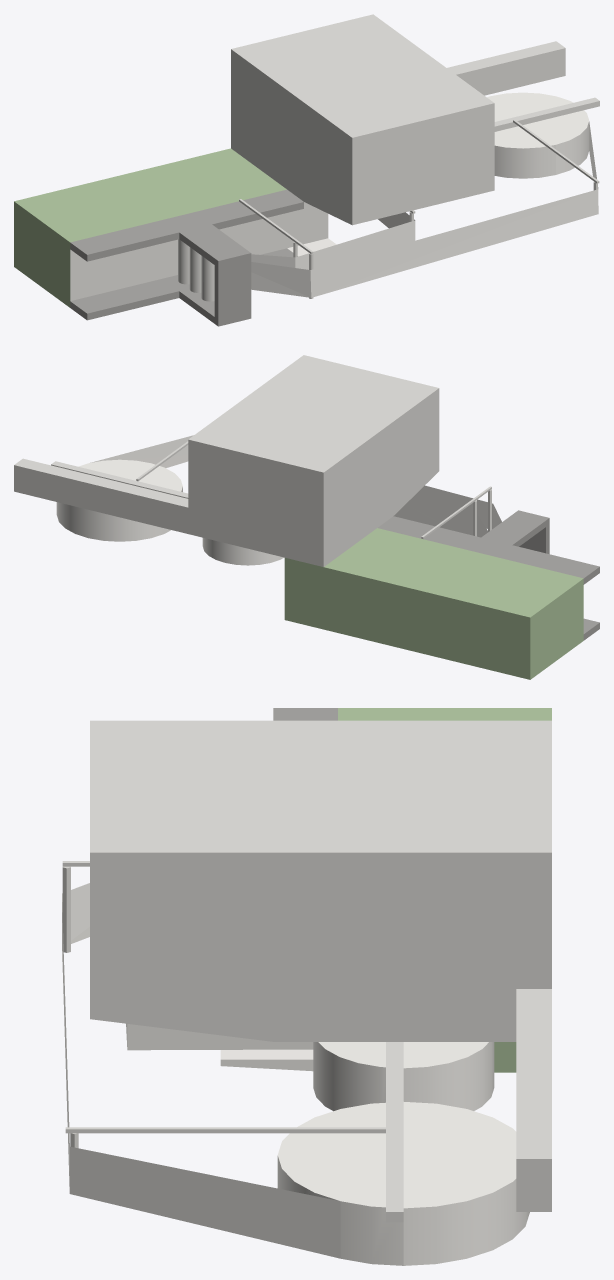
The model's file is plate_enveloper.dae.
The picture shows the model from 3 angles, top to bottom: view 1: azimuth 30°, elevation 25°; view 2: azimuth 150°, elevation 25°; view 3: azimuth 270°, elevation 25°; orthographic projection. The views are drawn at different scales.
Visible parts, largest first — view 1: group_0, instance_0_004, instance_0, instance_0_007, instance_0_005, instance_0_015; view 2: group_0, instance_0, instance_0_004, instance_0_007; view 3: group_0, instance_0_004, instance_0, instance_0_008, instance_0_007.
Boxes of the visible parts, <box> form: group_0: <box>231,14,599,298</box>; instance_0_004: <box>251,92,598,297</box>; instance_0: <box>14,148,286,307</box>; instance_0_007: <box>70,189,303,326</box>; instance_0_005: <box>70,202,328,300</box>; instance_0_015: <box>178,239,214,301</box>; group_0: <box>14,355,491,566</box>; instance_0: <box>284,528,583,679</box>; instance_0_004: <box>56,435,501,565</box>; instance_0_007: <box>378,510,599,640</box>; group_0: <box>62,720,551,1222</box>; instance_0_004: <box>62,883,529,1265</box>; instance_0: <box>338,708,551,1072</box>; instance_0_008: <box>220,1049,313,1071</box>; instance_0_007: <box>273,708,337,720</box>.
Size of the model in its own units: 1575 by 468 by 647.
